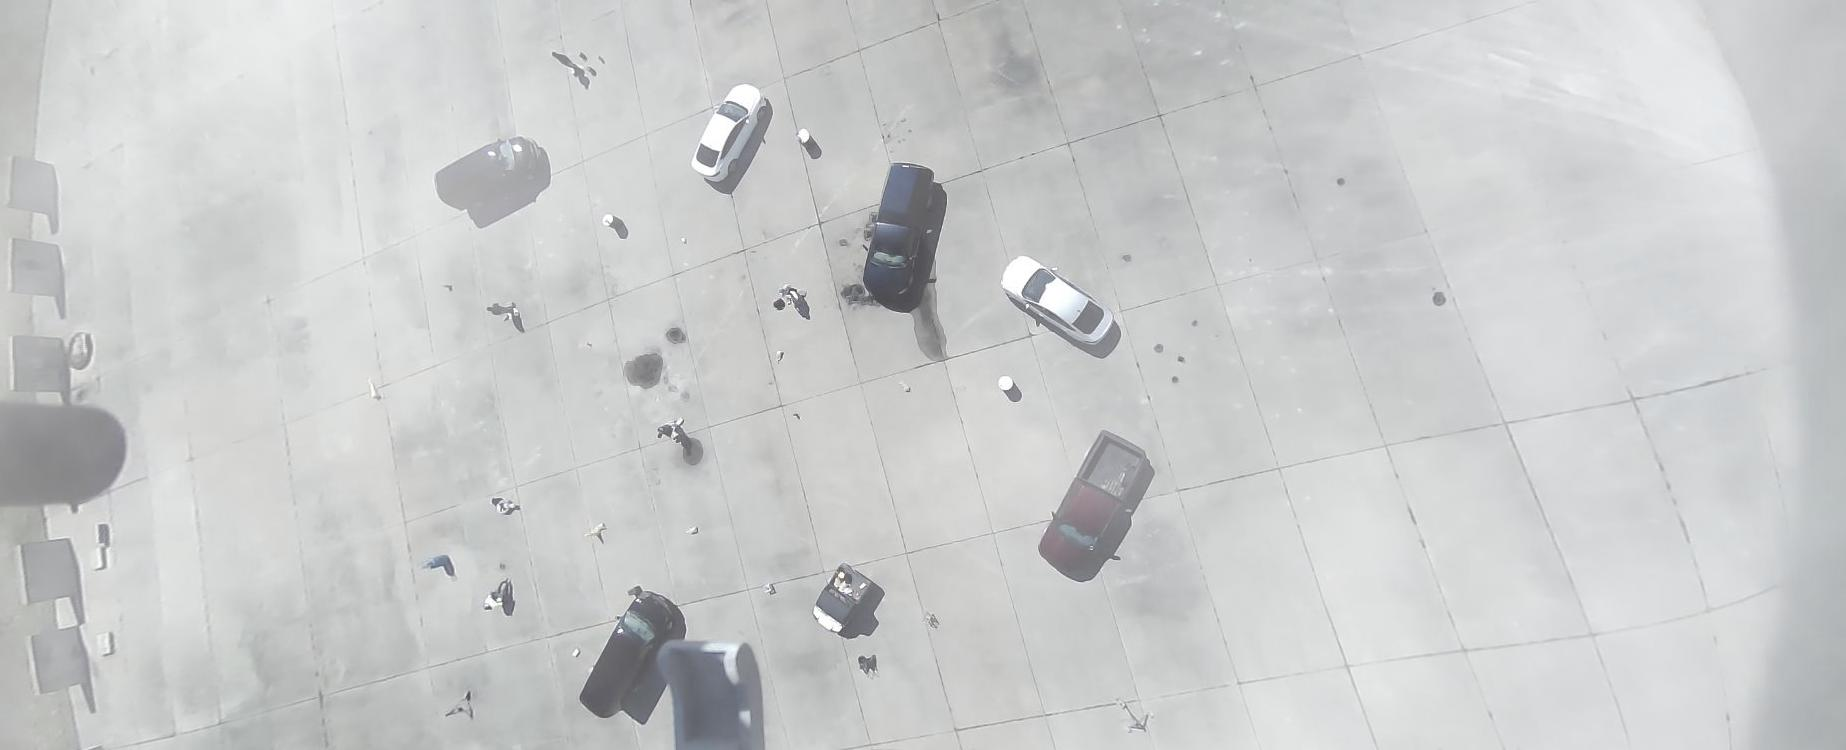vehicle: (1038, 430, 1147, 575), (579, 592, 673, 719), (1002, 255, 1115, 347), (862, 162, 935, 298), (434, 137, 543, 212), (691, 82, 766, 182), (814, 564, 874, 633)
